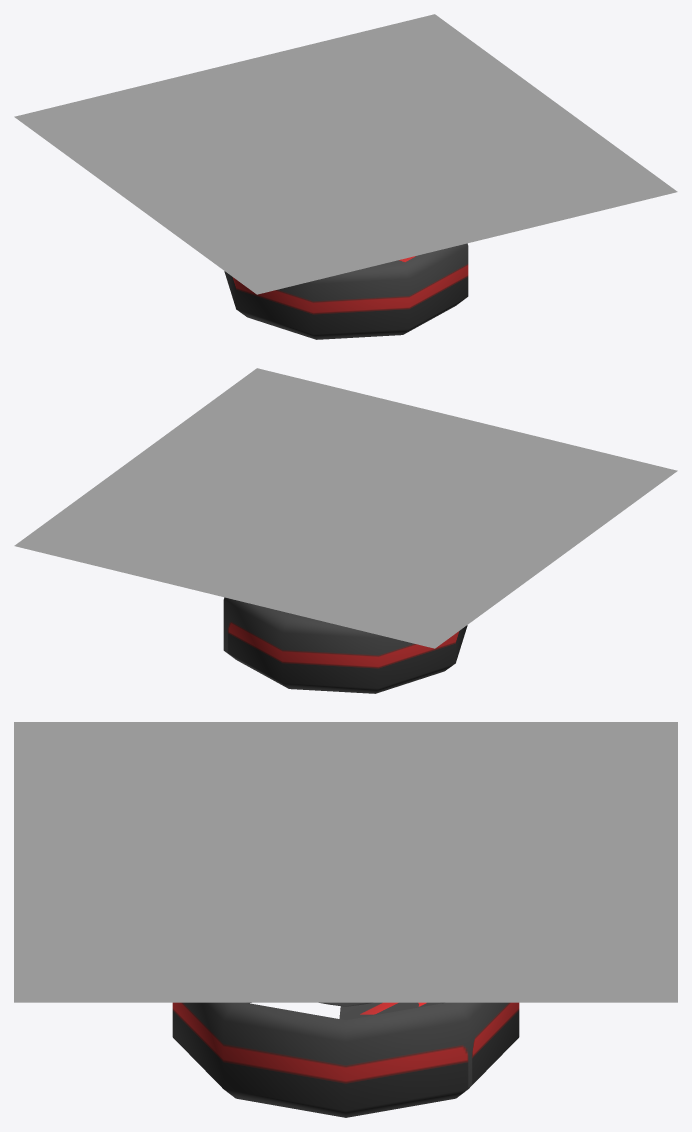
The model's file is PowerUpV0.1.fbx.
3 renders of one model, top to bottom at view 1: azimuth 30°, elevation 25°; view 2: azimuth 150°, elevation 25°; view 3: azimuth 270°, elevation 25°, orthographic. The views are drawn at different scales.
Visible parts, largest first — view 1: PUchargeIcon, PUchargePuck; view 2: PUchargeIcon, PUchargePuck; view 3: PUchargeIcon, PUchargePuck.
Part boxes in pixels (x1,y1,x2,y2): PUchargeIcon: (14,14,677,294); PUchargePuck: (224,243,468,339); PUchargeIcon: (14,368,677,648); PUchargePuck: (223,597,467,693); PUchargeIcon: (14,722,677,1002); PUchargePuck: (172,1002,519,1117).
Size of the model in its own units: 81.43 by 25.68 by 81.43.
2 materials, 1 textured.
